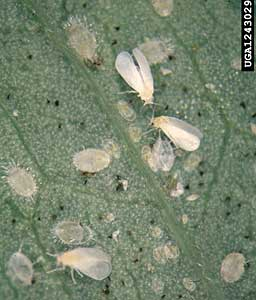whitefly: (115, 48, 163, 112), (142, 114, 204, 154), (46, 247, 111, 285)
